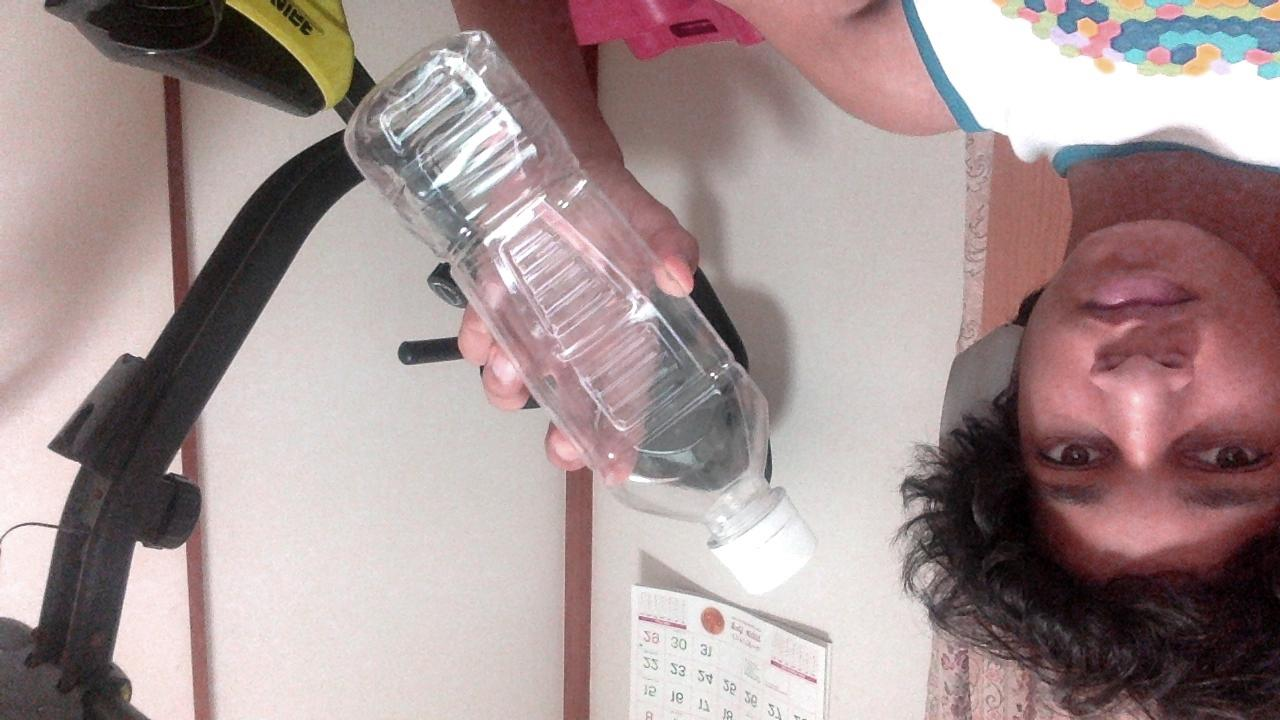Plastic: (344, 29, 823, 600)
